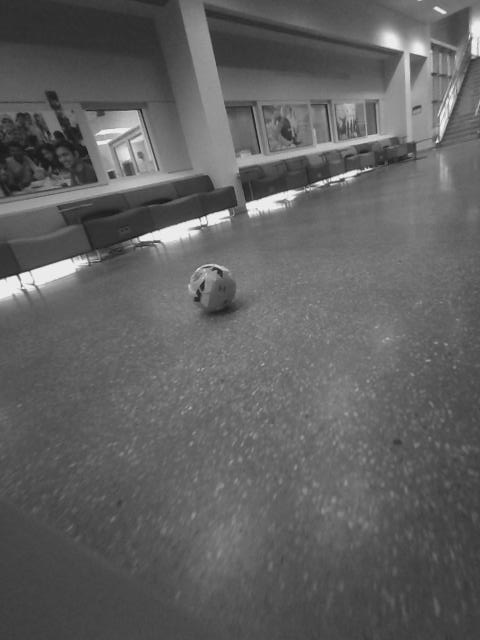ball: (184, 261, 243, 316)
